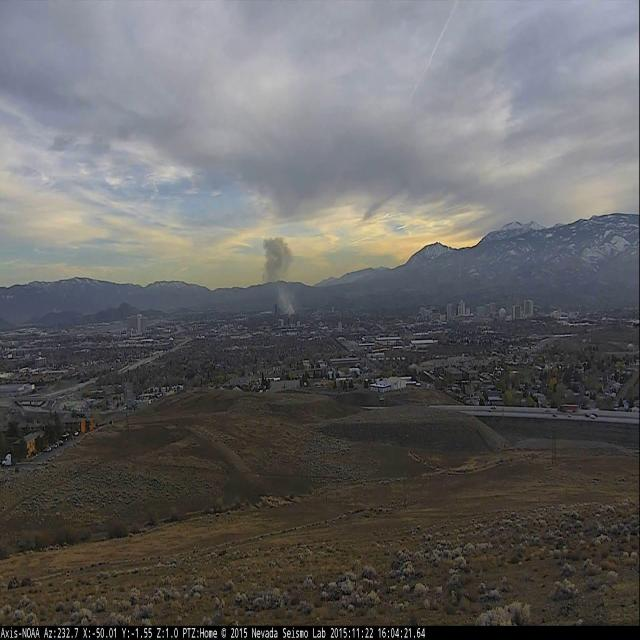smoke: (257, 222, 302, 321)
